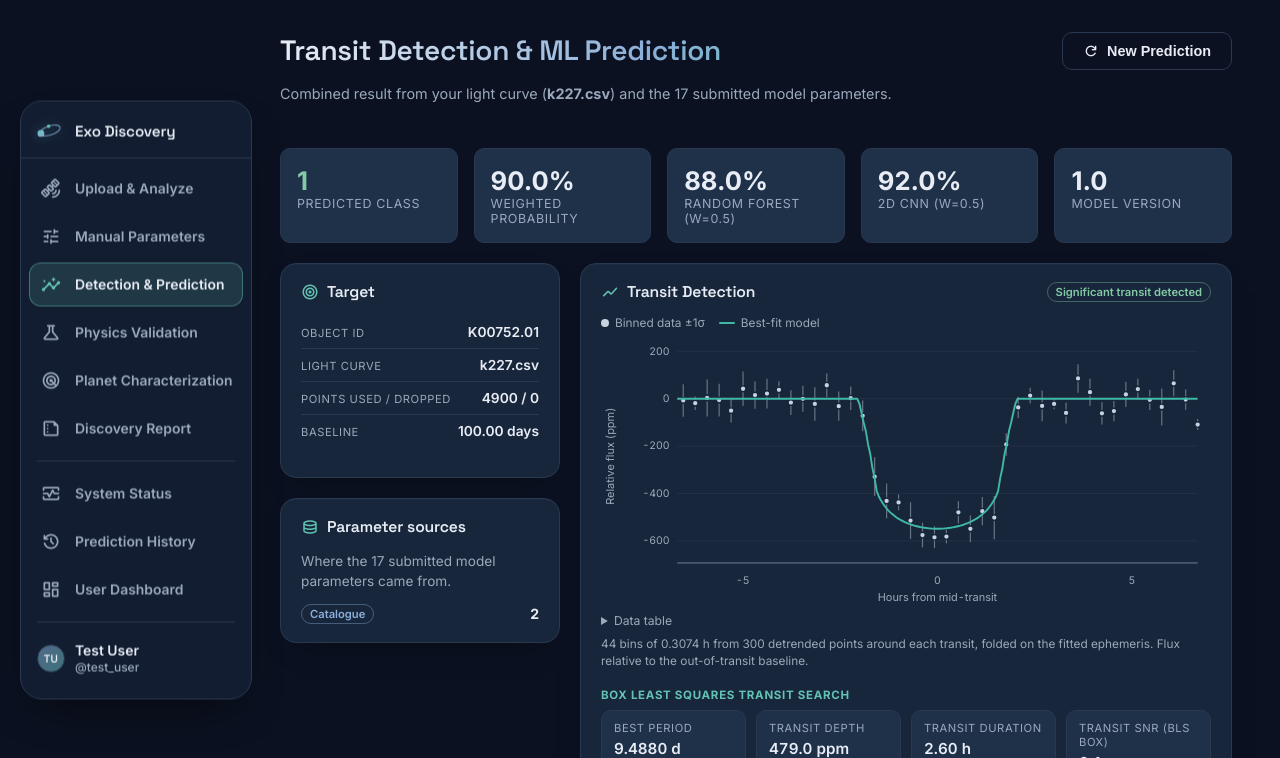
Planet characterization dashboard › mass sources: measured, catalogue-derived and unavailable are distinguished
The image size is (1280, 758).
Click the link "Planet Characterization": (137, 380) [41,368,233,392]
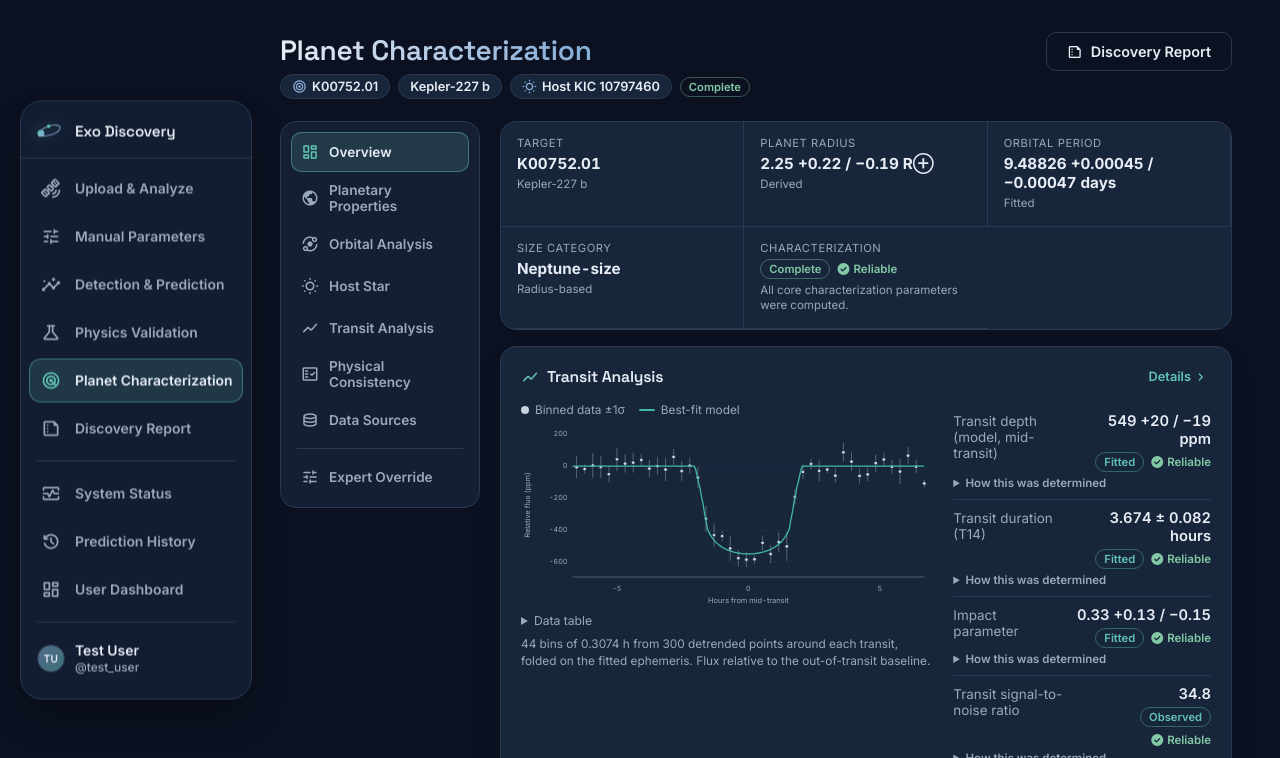
Click the button "Planetary Properties": (380, 198) [291,174,469,222]
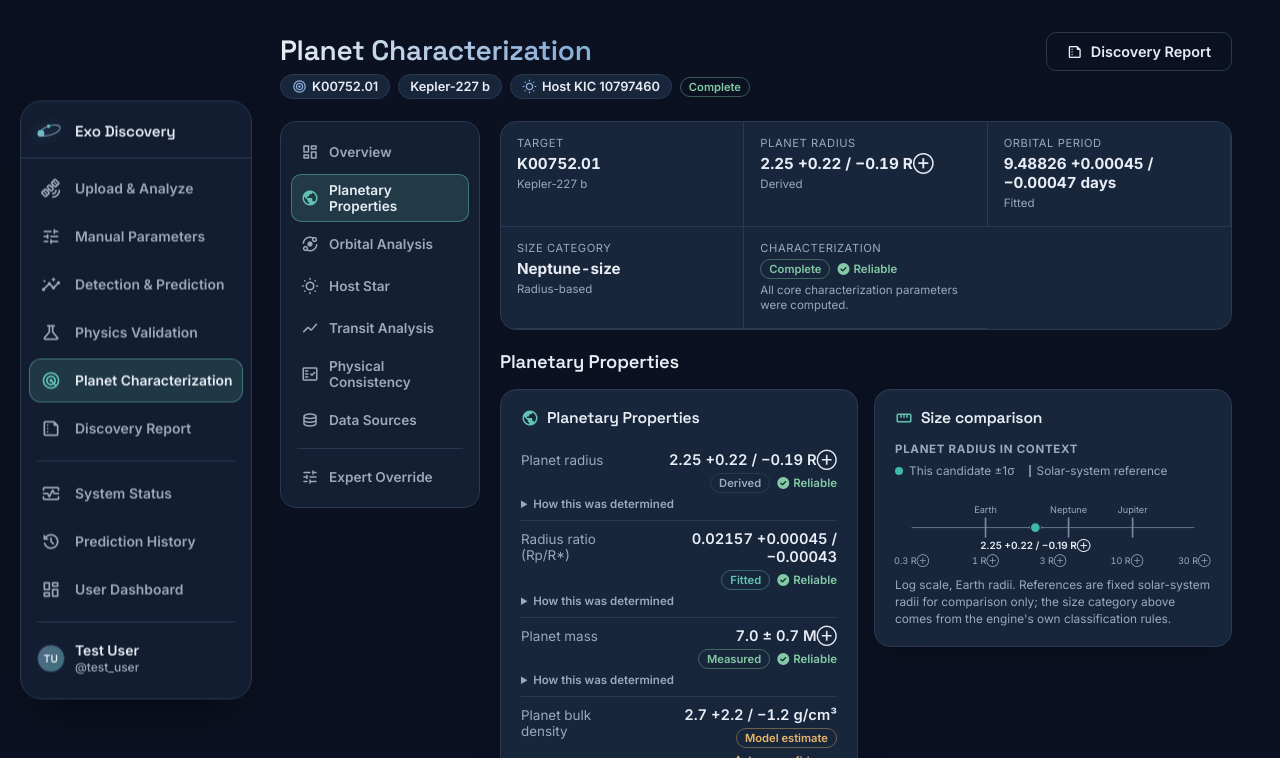
Check: the element with test id "char-param-planet_mass" does not show "Model estimate", box [521,618,837,697]
Check: the element with test id "char-param-planet_mass" shows "7.0 ± 0.7", box [736,627,837,645]
Check: the text "Measured" is shown, box [698,649,770,669]
Click the button "Host Star": (380, 286) [291,266,469,306]
(page scrolled)
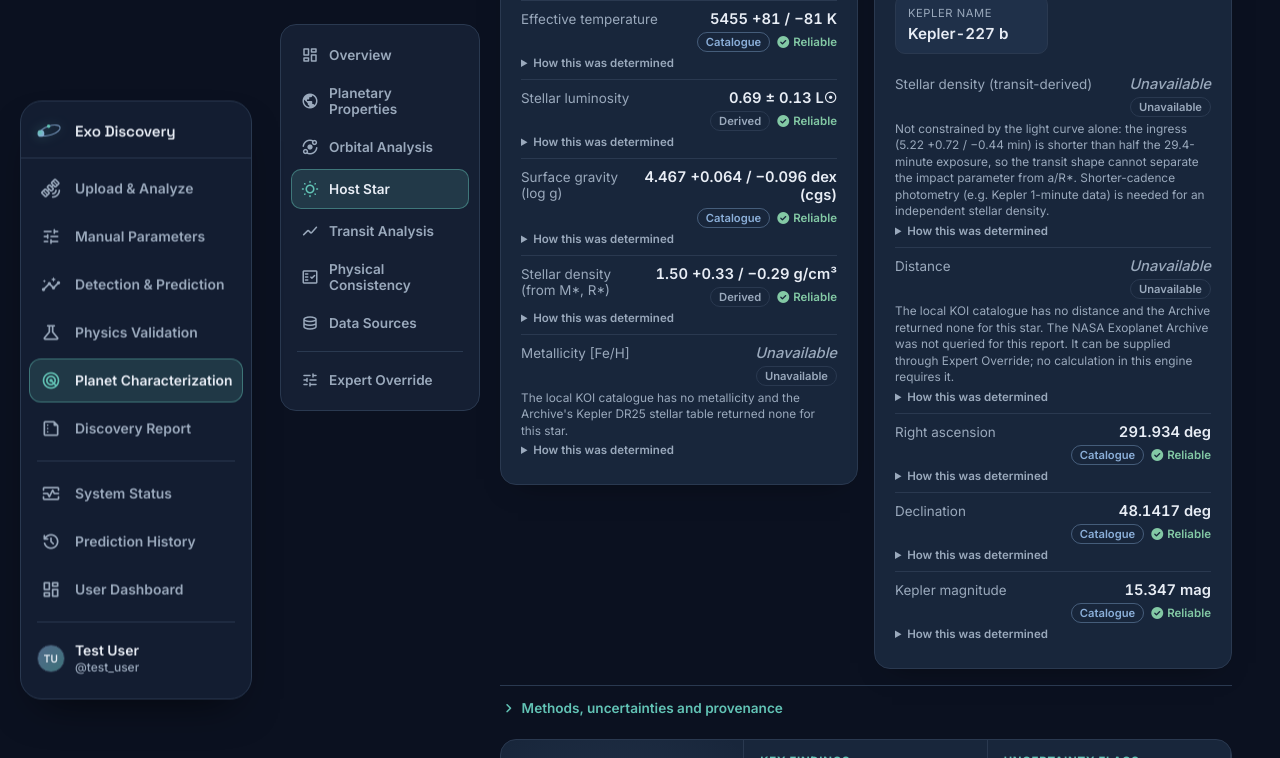
Check: the element with test id "char-param-stellar_metallicity" shows "Unavailable", box [755,344,837,362]
Check: the element with test id "char-param-stellar_metallicity" shows "returned none for this star", box [521,391,815,438]
